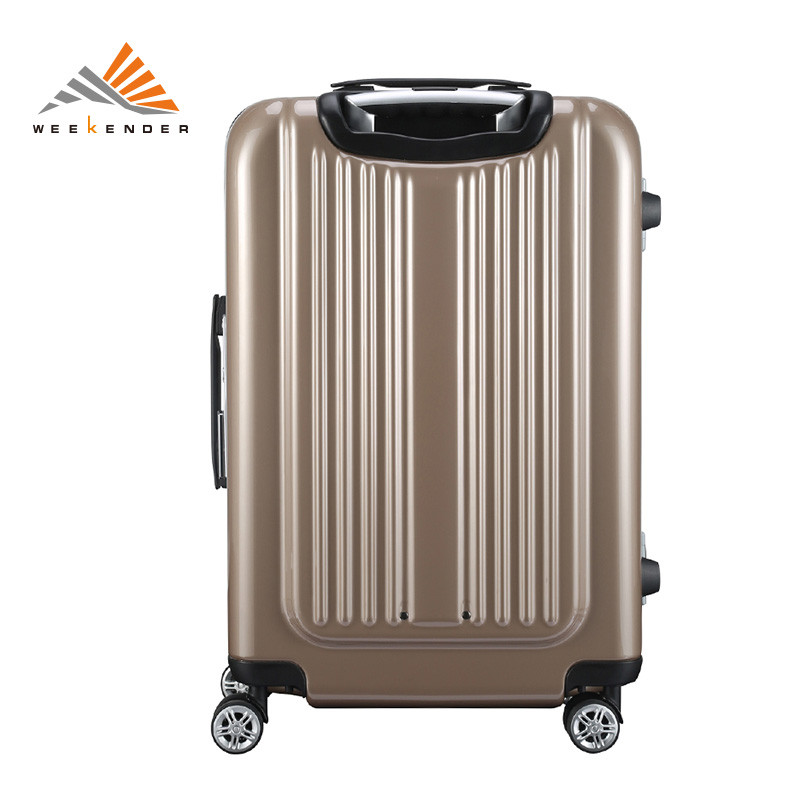luggage: (206, 74, 665, 754)
